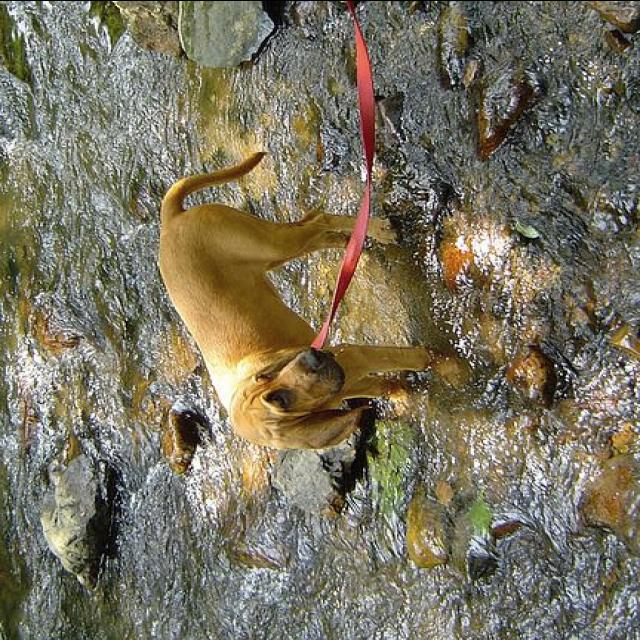bloodhound: (154, 151, 456, 451)
